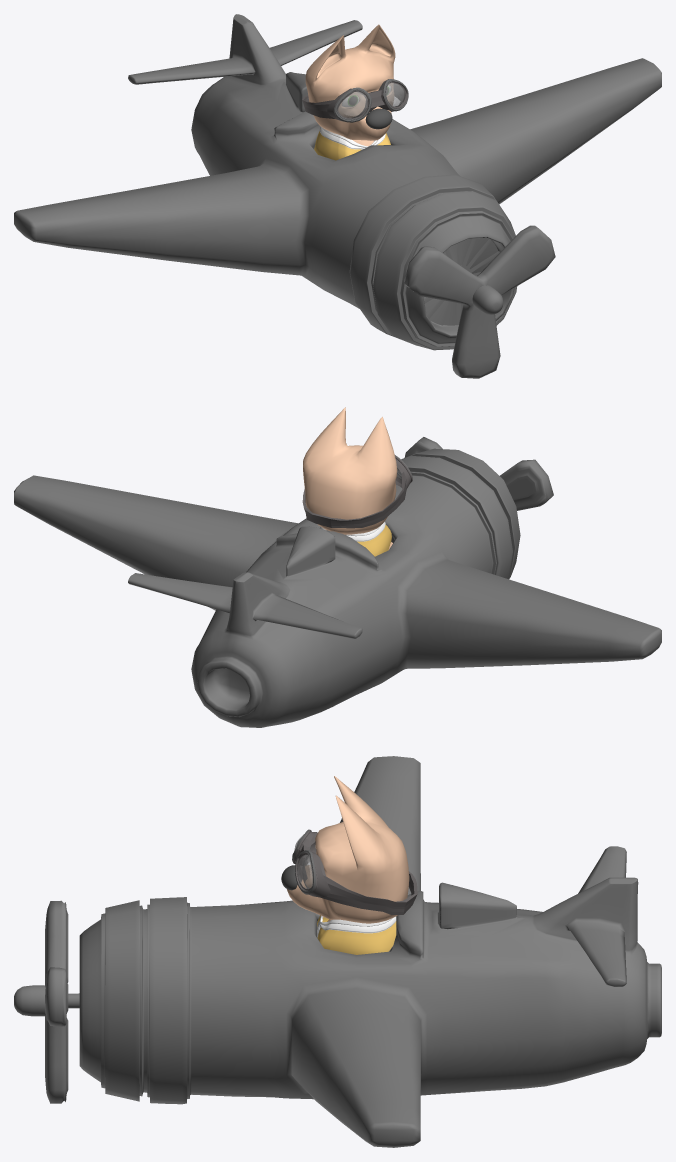
File: Dog_Plane.fbx
3 views of the same model, one above another, from view 1: azimuth 30°, elevation 25°; view 2: azimuth 150°, elevation 25°; view 3: azimuth 270°, elevation 25° (orthographic). The views are drawn at different scales.
Visible parts, largest first — view 1: pCube1, pGear2, Head, Goggles, pGear1, Clothes, pCylinder1; view 2: pCube1, Head, pGear2, Goggles, Clothes; view 3: pCube1, Head, pGear2, Goggles, Clothes, pCylinder1.
Part boxes in pixels (box(x1,y1,x2,y2)): pCube1: box(14, 14, 661, 350); pGear2: box(404, 225, 555, 378); Head: box(305, 24, 395, 140); Goggles: box(302, 79, 408, 122); pGear1: box(423, 238, 499, 325); Clothes: box(314, 126, 390, 160); pCylinder1: box(472, 285, 503, 314); pCube1: box(14, 448, 661, 727); Head: box(303, 407, 397, 534); pGear2: box(404, 437, 553, 510); Goggles: box(302, 455, 412, 528); Clothes: box(319, 522, 391, 556); pCube1: box(79, 756, 661, 1147); Head: box(287, 776, 409, 923); pGear2: box(45, 900, 68, 1103); Goggles: box(292, 829, 417, 914); Clothes: box(317, 915, 396, 954); pCylinder1: box(14, 985, 79, 1016).
Bounding box in the file's own units: 45.36 × 17.95 × 33.56.
